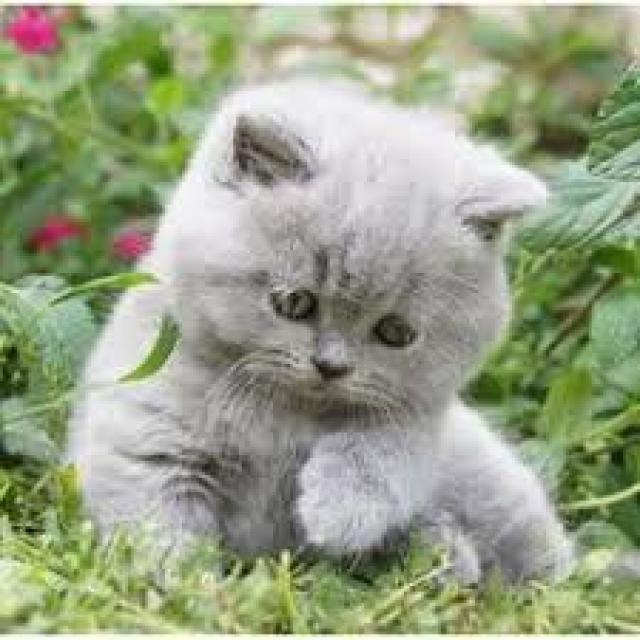Cat: (65, 70, 578, 583)
